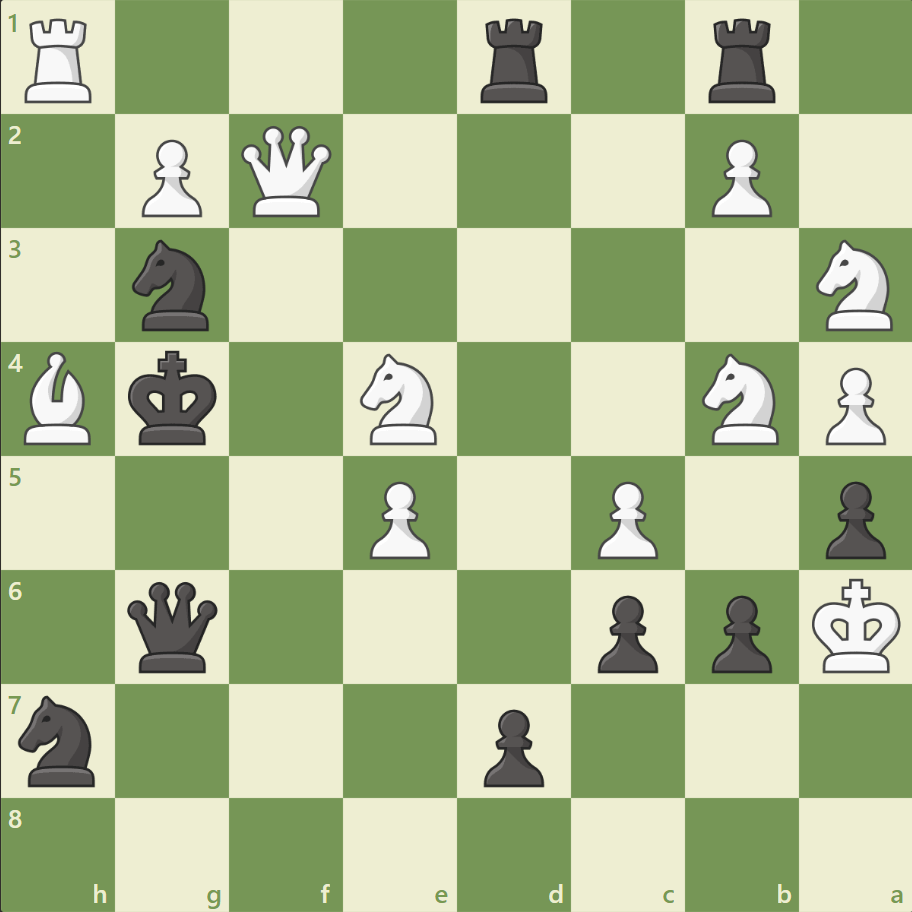B: (17, 347, 101, 449)
K: (806, 571, 906, 679)
N: (351, 348, 449, 450), (806, 234, 903, 337), (692, 348, 789, 450)
P: (701, 132, 776, 223), (133, 132, 208, 223), (588, 473, 662, 564), (361, 473, 435, 564), (815, 359, 889, 450)
Q: (237, 122, 336, 222)
R: (19, 12, 102, 109)
k: (124, 344, 224, 452)
n: (124, 234, 222, 337), (11, 688, 108, 791)
p: (474, 700, 549, 791), (701, 586, 776, 677), (588, 586, 662, 677), (815, 473, 889, 564)
q: (124, 576, 223, 676)
r: (700, 12, 783, 109), (473, 12, 556, 109)
